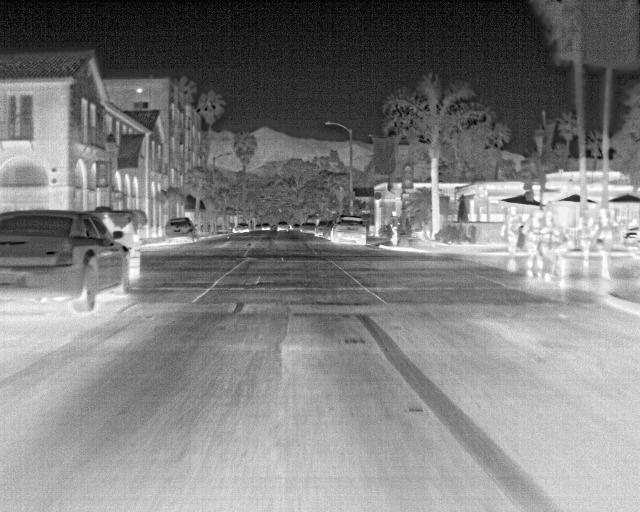bicycle: (0, 209, 130, 312), (332, 216, 371, 247), (163, 218, 198, 246), (315, 220, 335, 239), (233, 222, 252, 236), (300, 221, 318, 235), (276, 221, 291, 234)
empty: (591, 207, 617, 279), (522, 210, 545, 276), (501, 209, 521, 271), (387, 208, 403, 245)
